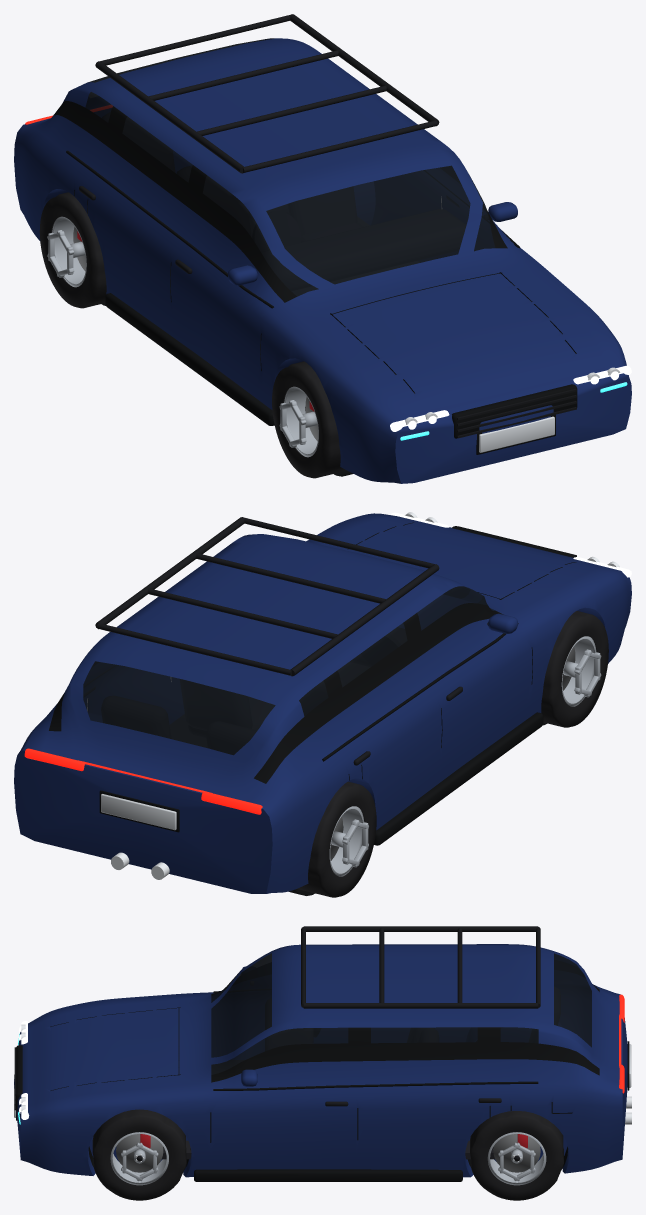
The model's file is tuner.glb.
3 renders of one model, top to bottom at view 1: azimuth 30°, elevation 25°; view 2: azimuth 150°, elevation 25°; view 3: azimuth 270°, elevation 25°, orthographic. The views are drawn at different scales.
Parts seen in each view (by area): view 1: Body, WheelFL, WheelRL; view 2: Body, WheelRL, WheelFL; view 3: Body, WheelFR, WheelRR.
Boxes of the visible parts, left/top/right/bottom form: Body: left=14, top=14, right=631, bottom=483; WheelFL: left=272, top=361, right=346, bottom=478; WheelRL: left=39, top=192, right=106, bottom=308; Body: left=14, top=512, right=631, bottom=895; WheelRL: left=297, top=781, right=376, bottom=897; WheelFL: left=541, top=611, right=608, bottom=727; Body: left=14, top=926, right=631, bottom=1181; WheelFR: left=92, top=1109, right=186, bottom=1200; WheelRR: left=470, top=1111, right=563, bottom=1200.
Bounding box in the file's own units: 2.08 × 1.51 × 4.57.
